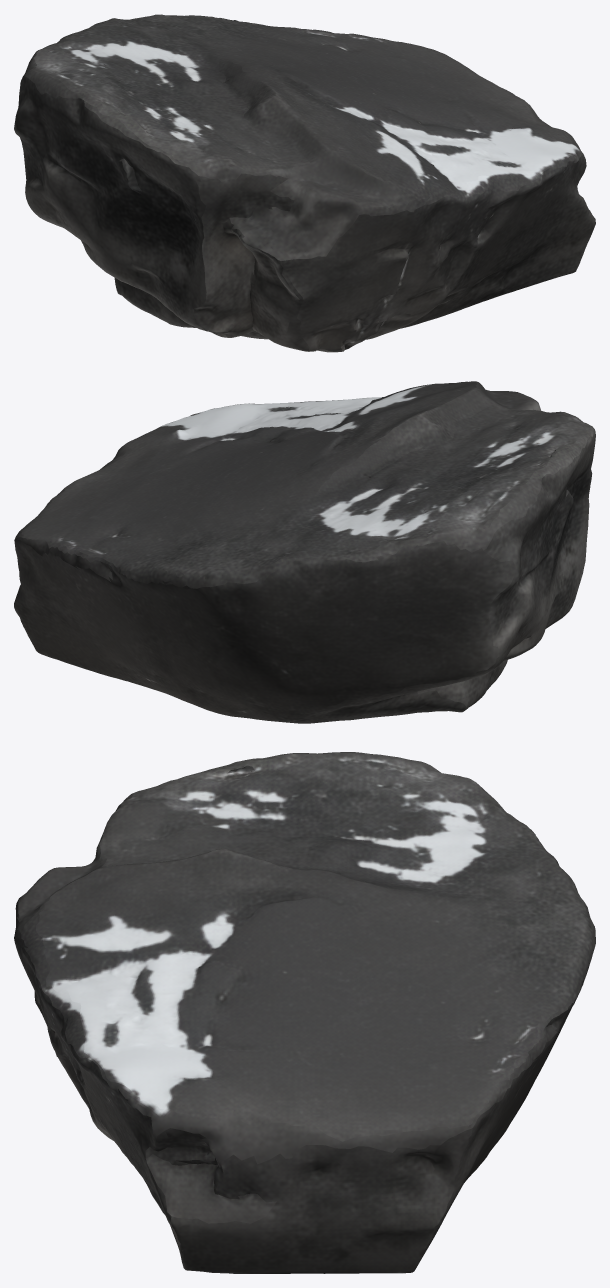
3 views of the same model, one above another, from view 1: azimuth 30°, elevation 25°; view 2: azimuth 150°, elevation 25°; view 3: azimuth 270°, elevation 25° (orthographic). The views are drawn at different scales.
Visible parts, largest first — view 1: world; view 2: world; view 3: world.
Part boxes in pixels (<box>): world: <box>14,14,595,352</box>; world: <box>14,381,595,723</box>; world: <box>14,752,595,1273</box>.
Size of the model in its own units: 0.35 by 0.1725 by 0.3239.
Materials: 1 (1 with a texture image).
